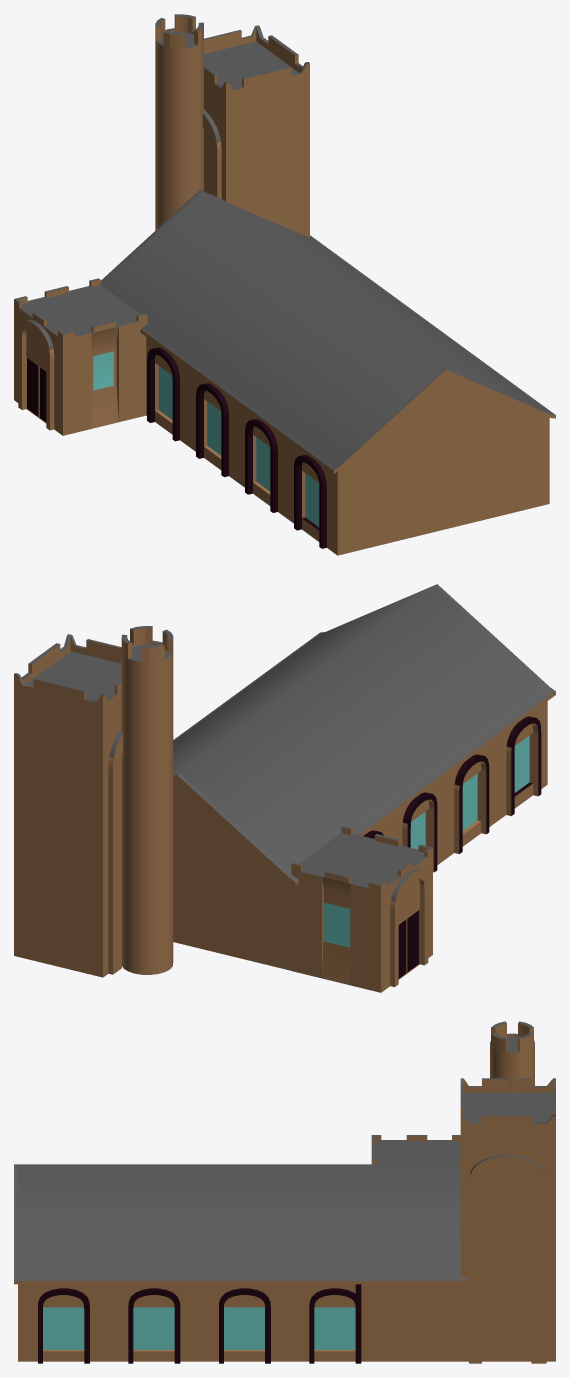
File: Church.fbx
The picture shows the model from 3 angles, top to bottom: view 1: azimuth 30°, elevation 25°; view 2: azimuth 150°, elevation 25°; view 3: azimuth 270°, elevation 25°; orthographic projection. The views are drawn at different scales.
Visible parts, largest first — view 1: MainChurch4; view 2: MainChurch4; view 3: MainChurch4.
Boxes of the visible parts, box(x1,y1,x2,y2) form: MainChurch4: box(14, 14, 555, 555); MainChurch4: box(14, 584, 555, 992); MainChurch4: box(14, 1021, 555, 1363).
Bounding box in the file's own units: 14.34 × 13.91 × 23.96.
